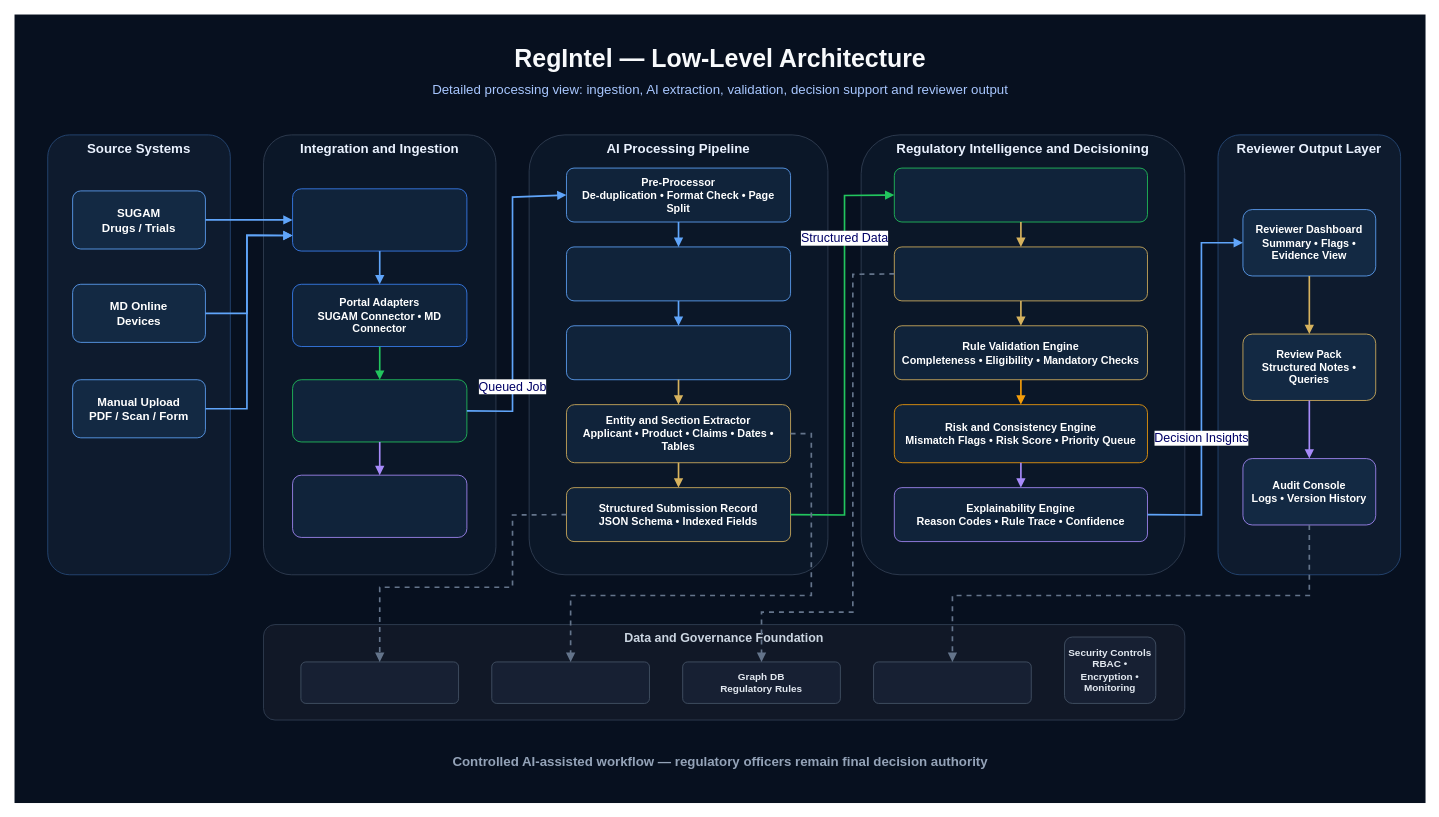
Image size: 1439x817. Some labels were removed from this diagram. The centre of each missing label's shape, as x and y in pixels:
API Gateway Auth • Rate Control • Routing: pixel 379 219
Audit Logs Traceability: pixel 952 682
Document Classifier Drug • Device • Trial • Inspection: pixel 678 352
Ingestion Queue Job ID • File Metadata • Priority: pixel 379 410
OCR Service Text Extraction • Layout Preservation: pixel 678 273
PII / PHI Detection Masking • Tokenisation • Redaction Log: pixel 1020 194
Raw Document Store Encrypted Object Storage: pixel 379 505
Regulatory Knowledge Graph Rules • Guidelines • Evidence Map: pixel 1020 273
Relational DB Submission Records: pixel 379 682
Vector Index Semantic Search: pixel 570 682
